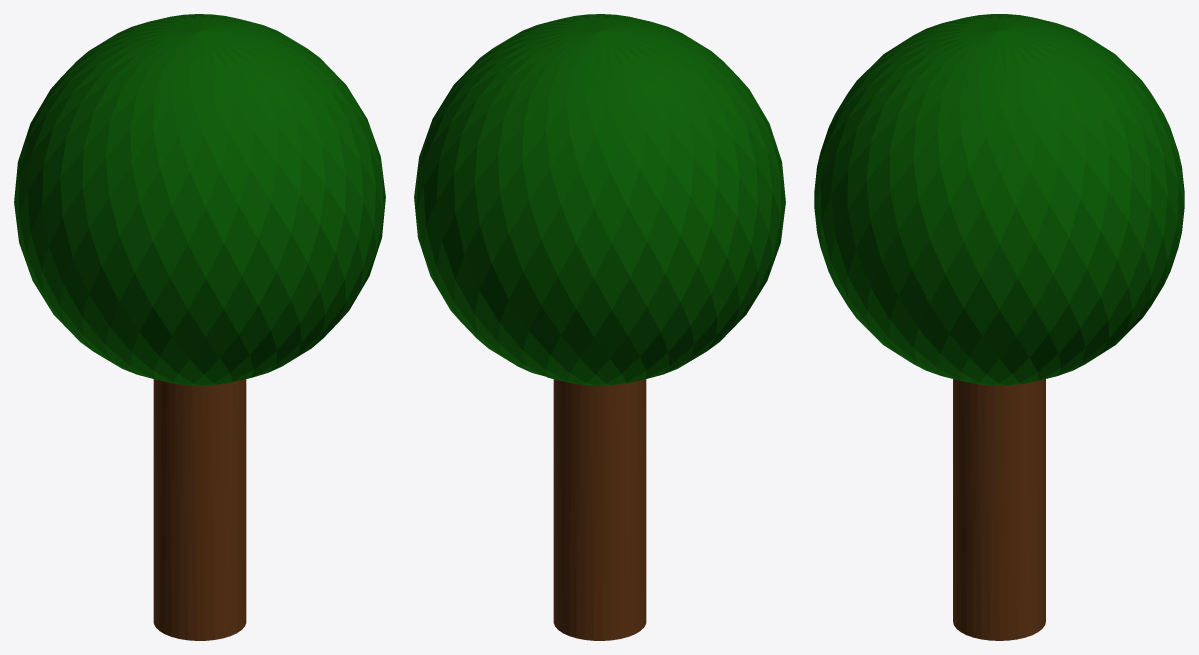
File: Tree_HighMidPoly.fbx
3 renders of one model, left to right at view 1: azimuth 30°, elevation 25°; view 2: azimuth 150°, elevation 25°; view 3: azimuth 270°, elevation 25°, orthographic.
Visible parts, largest first — view 1: Leaves, Trunk; view 2: Leaves, Trunk; view 3: Leaves, Trunk.
Boxes of the visible parts, x1,y1,x2,y2 form: Leaves: [14, 14, 385, 385]; Trunk: [153, 379, 246, 640]; Leaves: [414, 14, 785, 385]; Trunk: [553, 379, 646, 640]; Leaves: [814, 14, 1184, 385]; Trunk: [953, 379, 1045, 640].
Bounding box in the file's own units: 796 × 1400 × 796.
